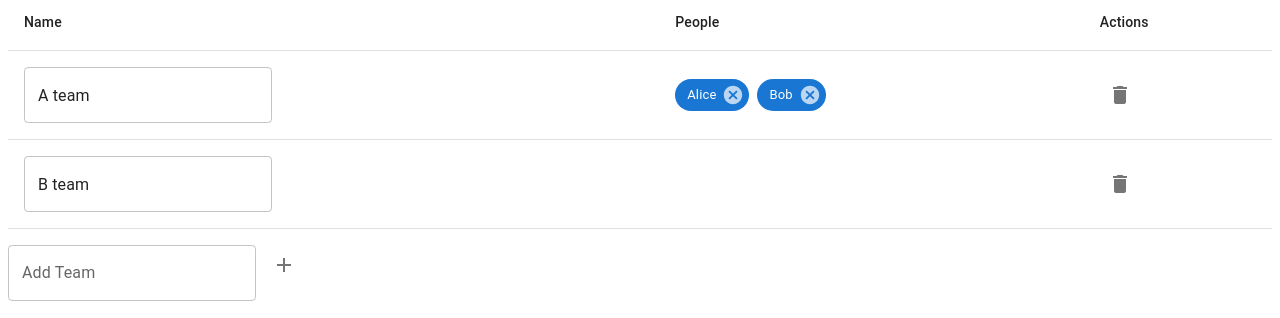
Test: TeamsPage › removes a member from a team
Expected: the text "Alice" is shown 2 times, [687,87,716,102]; [770,87,793,102]
What coordinates should you click on to do the following:
click the 1st icon
I would click on:
 (734, 95)
Its box is [722,84,744,106].
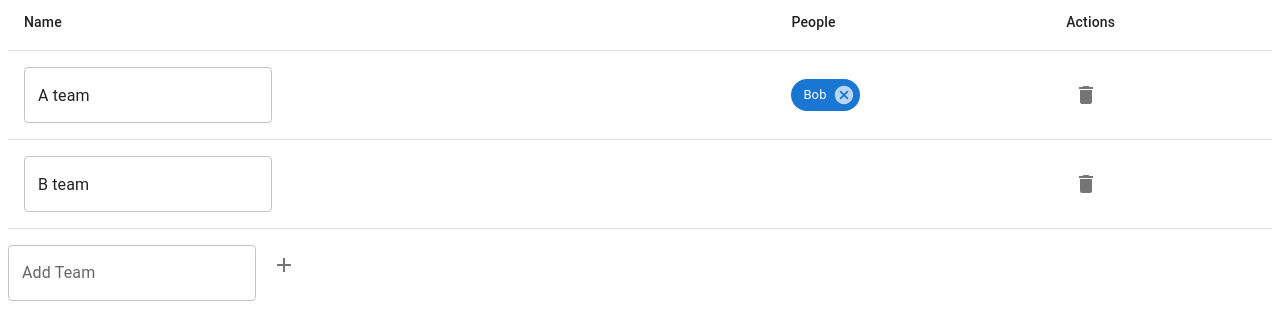
Expected: the text "Bob" is shown, [803,87,827,102]
Expected: the button "Alice" is gone
Expected: the text "Bob" is shown once, [803,87,827,102]
